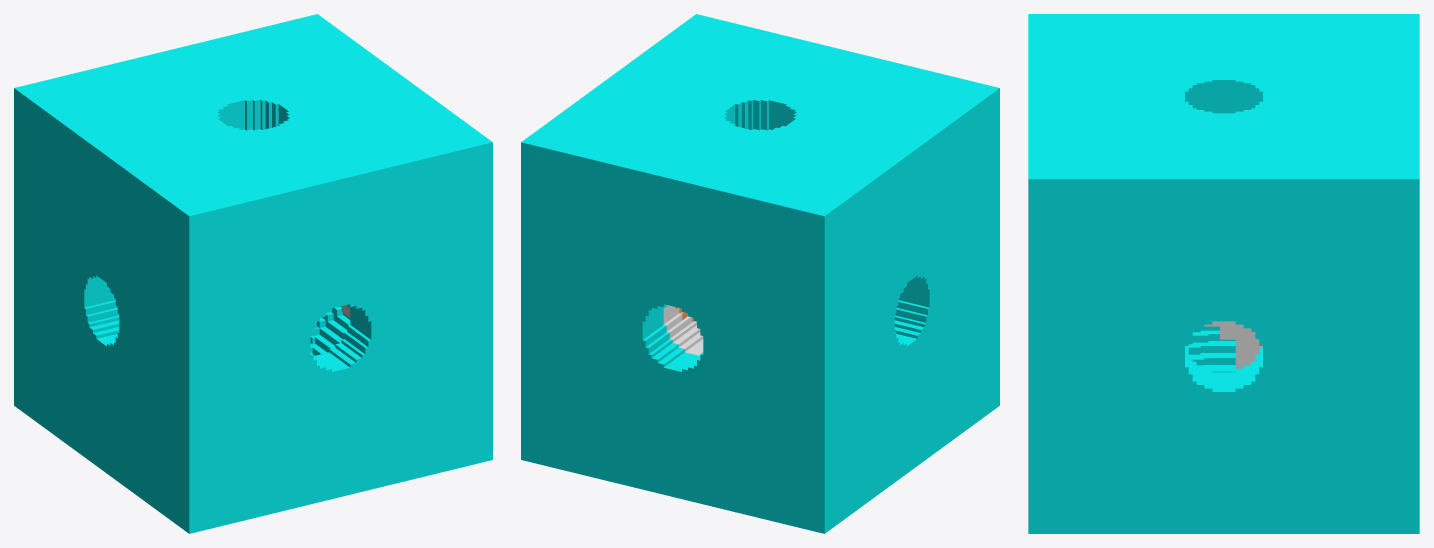
The model's file is Mine4-0_ORIG.obj.
The picture shows the model from 3 angles, left to right: view 1: azimuth 30°, elevation 25°; view 2: azimuth 150°, elevation 25°; view 3: azimuth 270°, elevation 25°; orthographic projection. The views are drawn at different scales.
Size of the model in its own units: 10 by 10 by 10.
